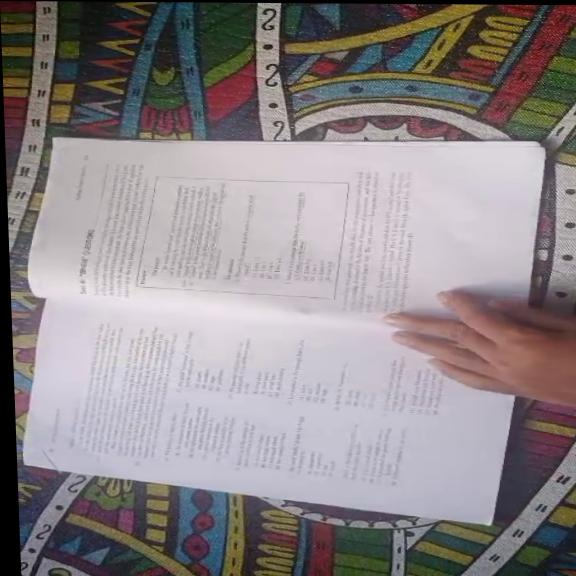Kertas: (48, 256, 394, 467), (58, 141, 529, 286)
